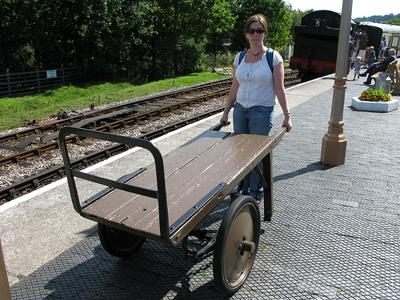person: (218, 11, 294, 210)
